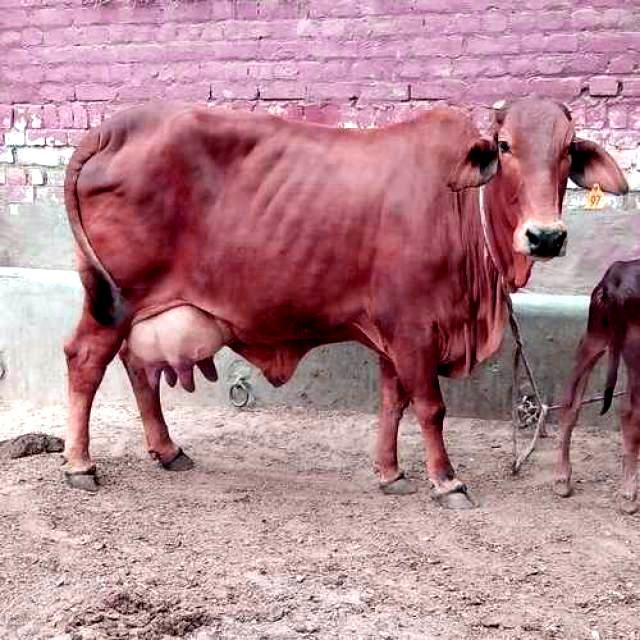COW: (65, 98, 628, 507)
